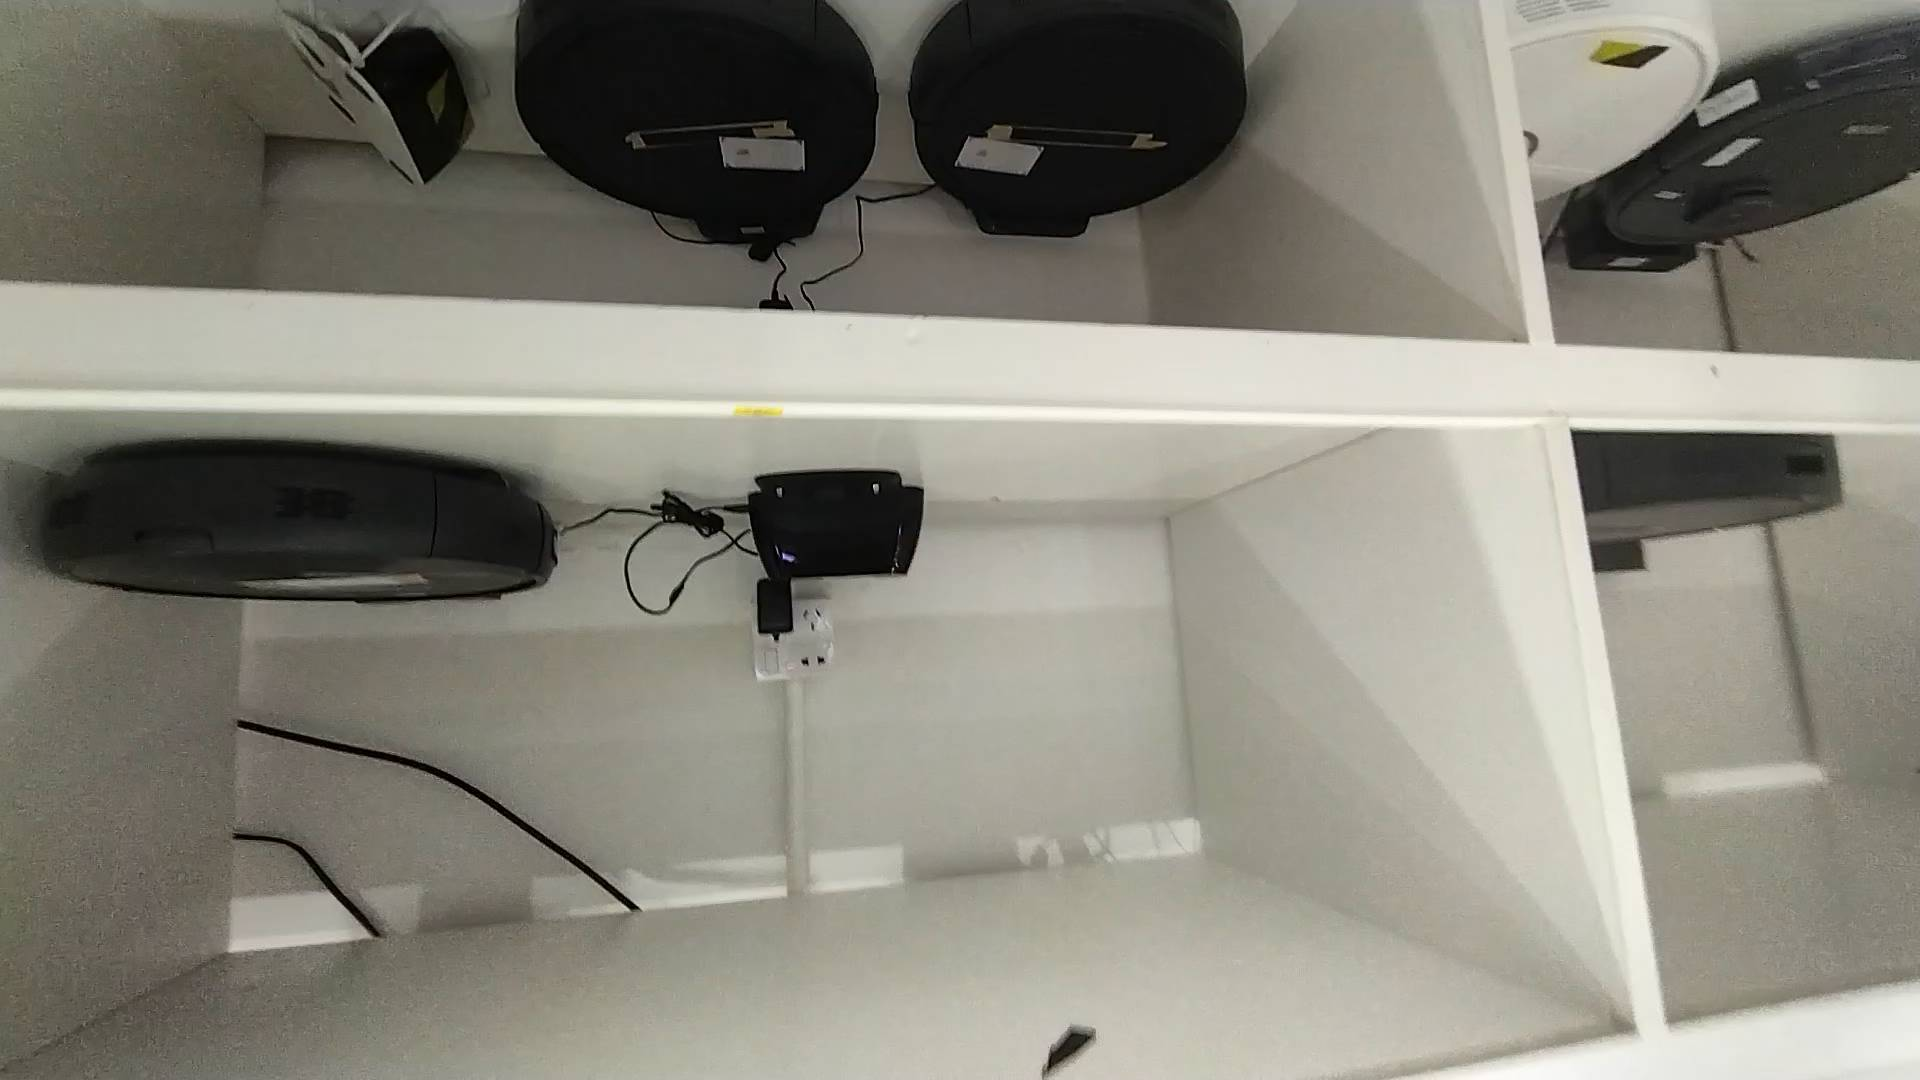recharge seat: (273, 15, 475, 191), (745, 469, 928, 587)
